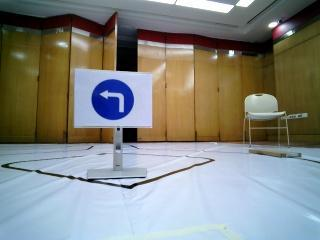left: (76, 76, 152, 129)
